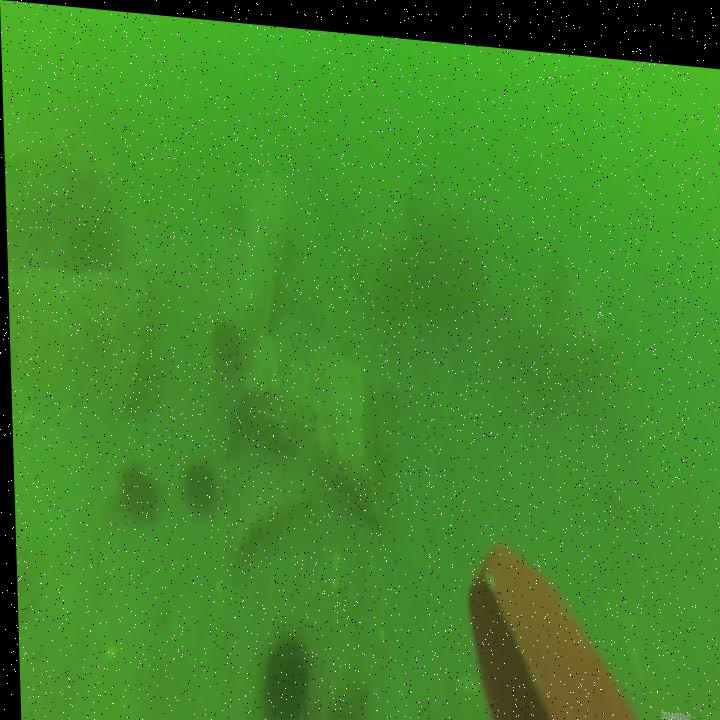echinus: (257, 619, 310, 720), (115, 457, 154, 517), (170, 457, 211, 512), (207, 309, 240, 365)
